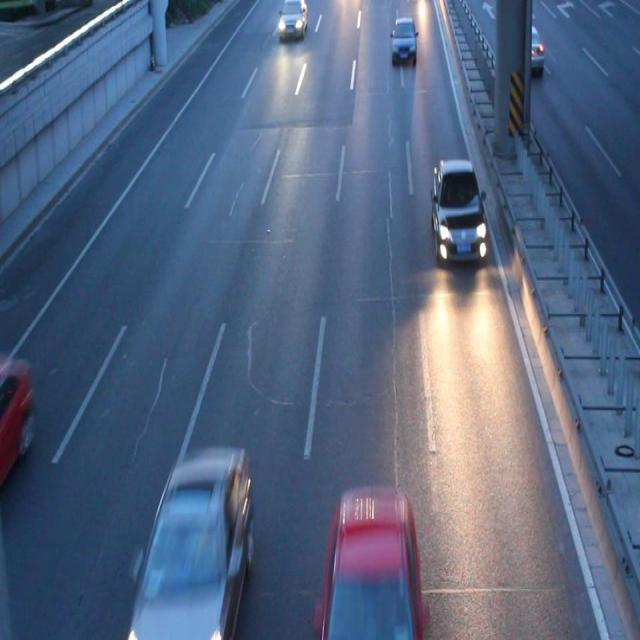car: (122, 443, 252, 640), (317, 487, 428, 640), (428, 158, 487, 260), (1, 356, 33, 522), (390, 17, 417, 62), (277, 1, 307, 37)
